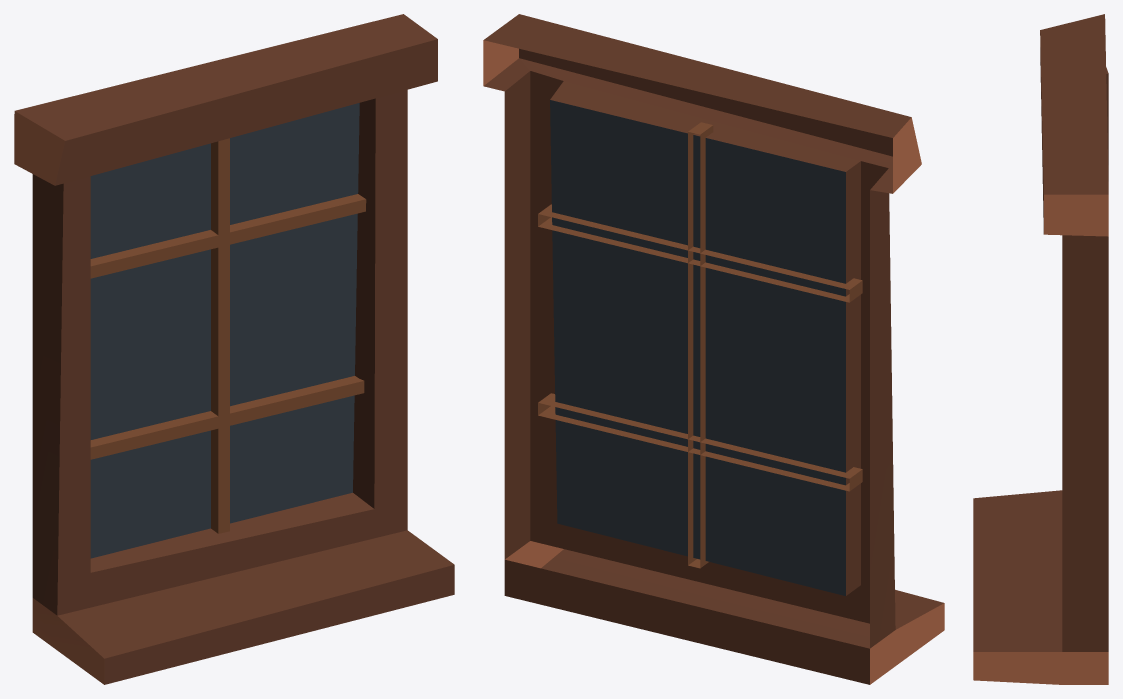
The model's file is Standard_Window.glb.
3 renders of one model, left to right at view 1: azimuth 30°, elevation 25°; view 2: azimuth 150°, elevation 25°; view 3: azimuth 270°, elevation 25°, orthographic. The views are drawn at different scales.
Visible parts, largest first — view 1: House-window-ver3-light_texture_0, House-window-ver3-light_WATER_0; view 2: House-window-ver3-light_texture_0, House-window-ver3-light_WATER_0; view 3: House-window-ver3-light_texture_0.
Part boxes in pixels (<box>): House-window-ver3-light_texture_0: <box>14,14,454,684</box>; House-window-ver3-light_WATER_0: <box>90,103,359,558</box>; House-window-ver3-light_texture_0: <box>483,14,944,684</box>; House-window-ver3-light_WATER_0: <box>550,100,845,595</box>; House-window-ver3-light_texture_0: <box>973,14,1108,684</box>.
Size of the model in its own units: 0.9592 by 1.24 by 0.3041.
Materials: 2 (2 with a texture image).
